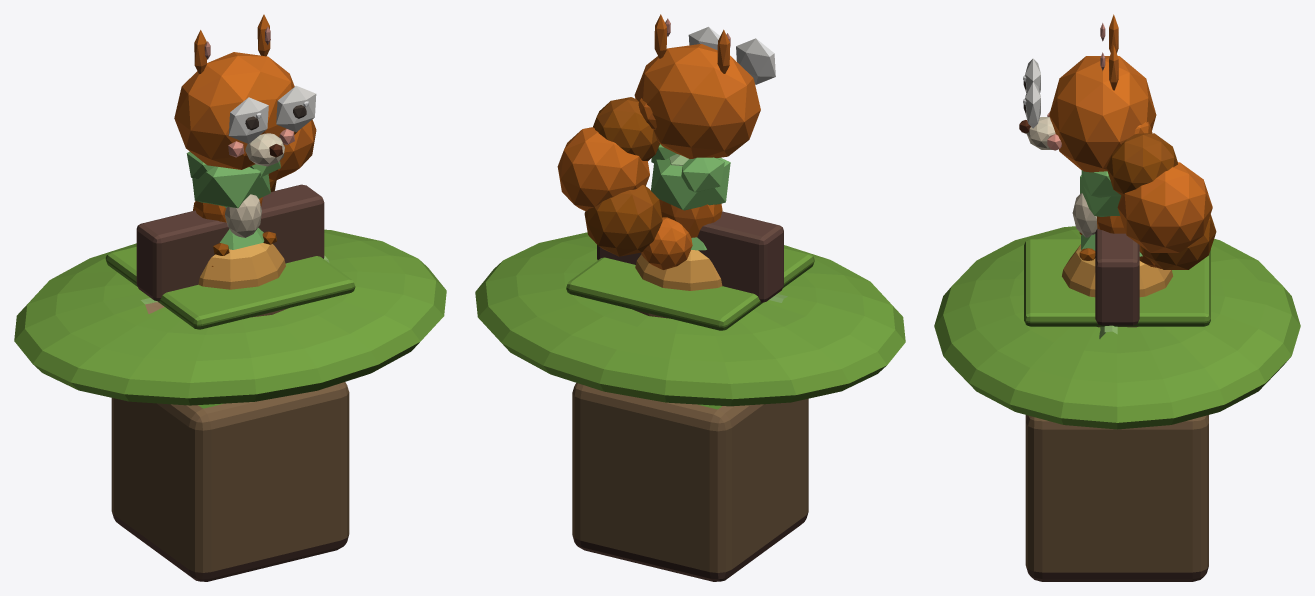
The model's file is diorama.glb.
3 renders of one model, left to right at view 1: azimuth 30°, elevation 25°; view 2: azimuth 150°, elevation 25°; view 3: azimuth 270°, elevation 25°, orthographic.
Visible parts, largest first — view 1: hill, ground, squirrel_body, wall, tile_a, tree_a, ball, squirrel_eye_l, squirrel_eye_r, squirrel_tail, tree_b; view 2: hill, ground, squirrel_tail, squirrel_body, tile_a, wall, tree_a, ball, squirrel_eye_l; view 3: hill, ground, squirrel_body, squirrel_tail, tile_a, wall, ball, tree_a, squirrel_eye_r.
Part boxes in pixels (x1,y1,x2,y2): hill: [14, 229, 446, 405]; ground: [111, 382, 349, 581]; squirrel_body: [174, 14, 294, 266]; wall: [136, 184, 324, 301]; tile_a: [105, 246, 355, 329]; tree_a: [186, 151, 280, 208]; ball: [198, 243, 285, 289]; squirrel_eye_l: [228, 97, 268, 143]; squirrel_eye_r: [276, 85, 316, 132]; squirrel_tail: [193, 119, 316, 210]; tree_b: [220, 207, 264, 249]; hill: [475, 232, 905, 406]; ground: [572, 383, 808, 581]; squirrel_tail: [557, 97, 692, 269]; squirrel_body: [634, 14, 760, 237]; tile_a: [566, 248, 814, 330]; wall: [597, 211, 783, 302]; tree_a: [651, 144, 730, 210]; ball: [635, 250, 722, 290]; squirrel_eye_l: [736, 38, 775, 84]; hill: [934, 226, 1300, 429]; ground: [1025, 415, 1208, 581]; squirrel_body: [1019, 14, 1156, 260]; squirrel_tail: [1106, 122, 1216, 269]; tile_a: [1024, 239, 1210, 326]; wall: [1095, 228, 1139, 325]; ball: [1062, 244, 1172, 297]; tree_a: [1080, 170, 1121, 216]; squirrel_eye_r: [1023, 82, 1040, 128].
Bounding box in the file's own units: 2.5 × 3.13 × 2.
